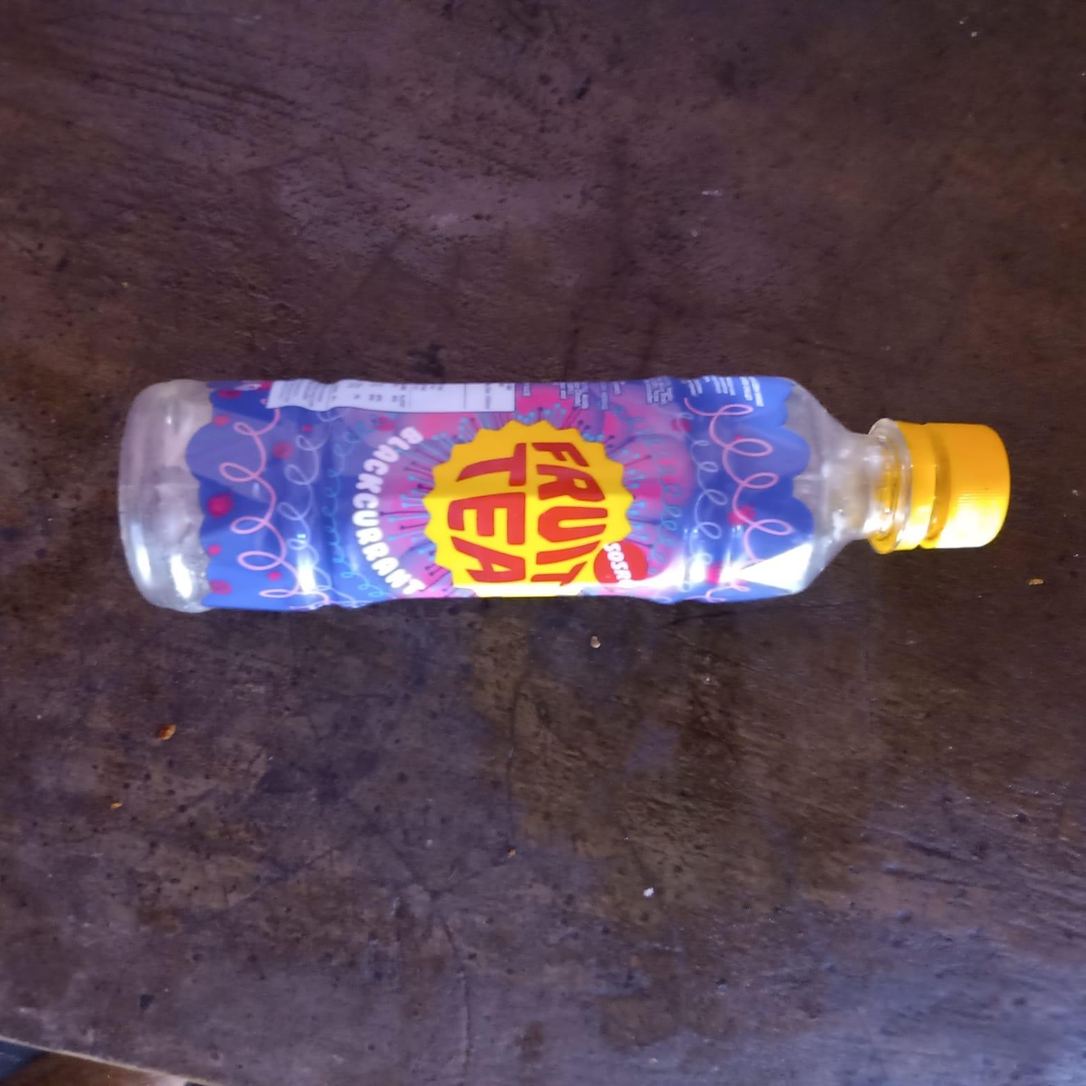Plastik: (121, 379, 1007, 612)
